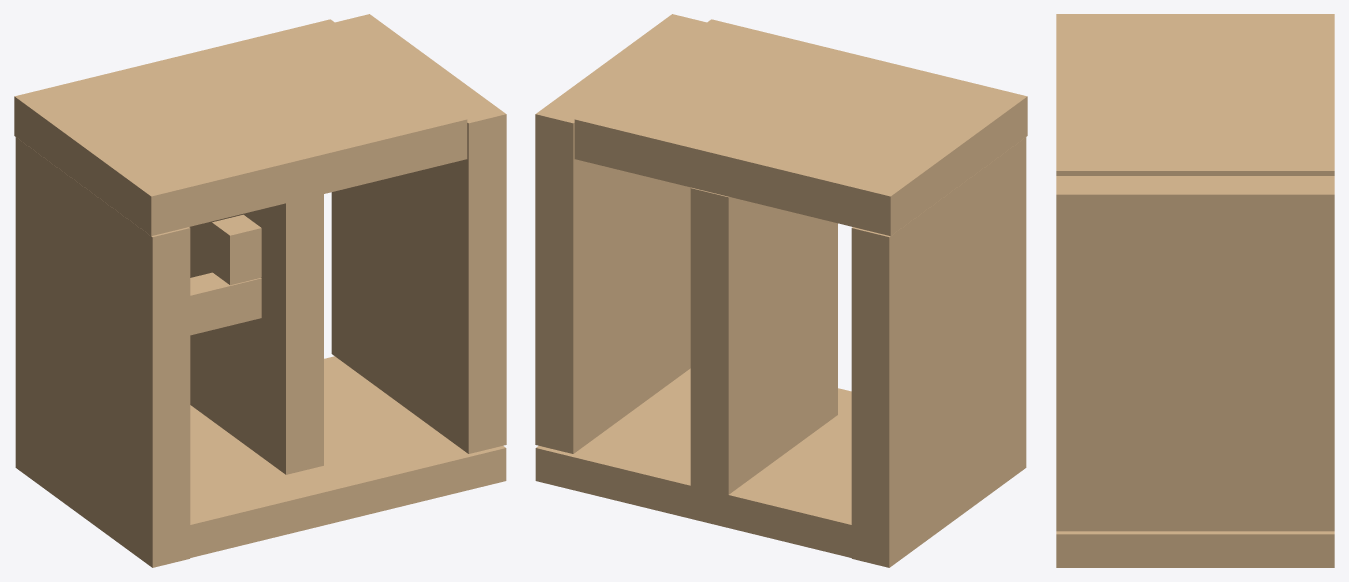
The model's file is tinker.obj.
The picture shows the model from 3 angles, left to right: view 1: azimuth 30°, elevation 25°; view 2: azimuth 150°, elevation 25°; view 3: azimuth 270°, elevation 25°; orthographic projection.
Visible parts, largest first — view 1: obj_0; view 2: obj_0; view 3: obj_0.
Part boxes in pixels (x1=…): obj_0: x1=14, y1=14, x2=506, y2=567; obj_0: x1=535, y1=14, x2=1027, y2=567; obj_0: x1=1056, y1=14, x2=1334, y2=567.
Size of the model in its own units: 112 by 112 by 75.
